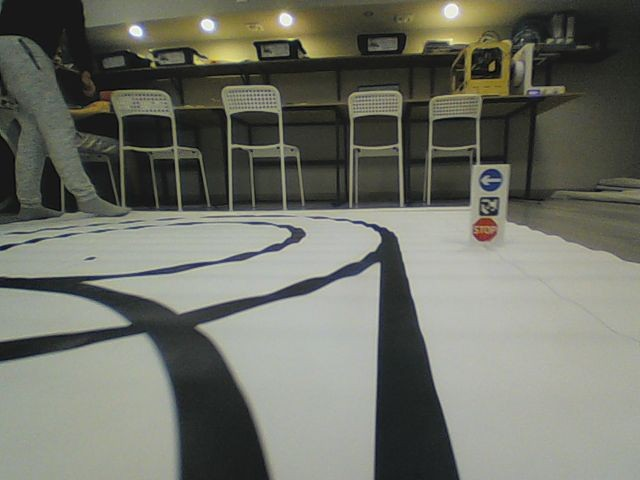Stop: (471, 216, 498, 243)
